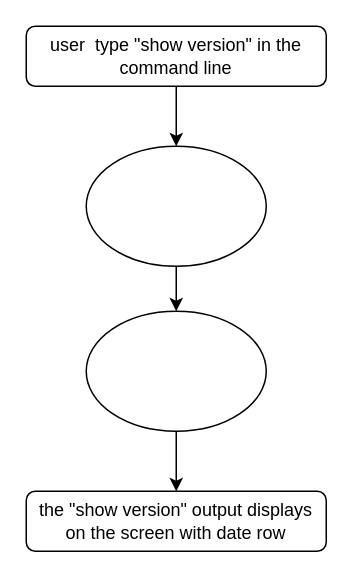
Some shapes in this 353 by 578 pixel diagram are drawn without their labels. Each missing label, with the centre of its shape:
"version" subcommand execute: pixel 175 205
initial sys_date variable with current date: pixel 175 370
